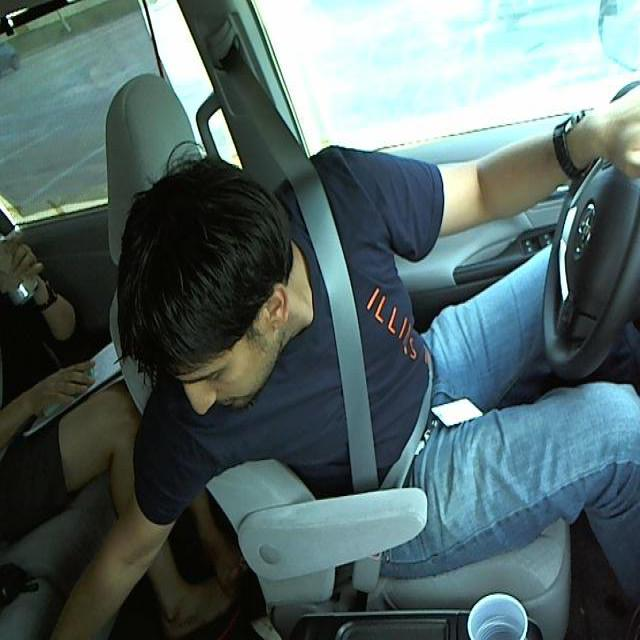seatbelt: (277, 176, 441, 492)
